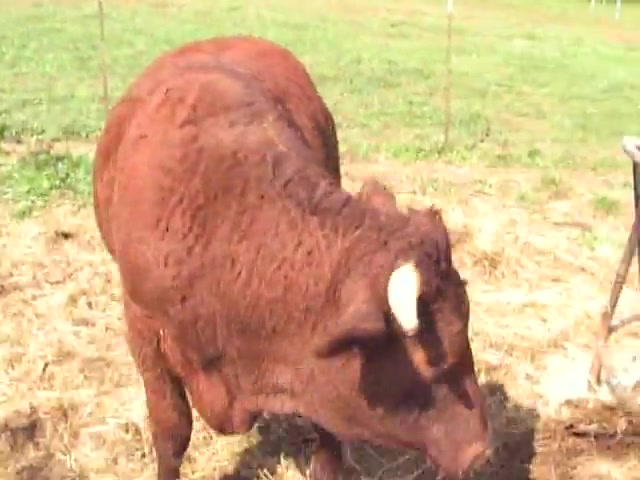cow: (92, 35, 498, 480)
